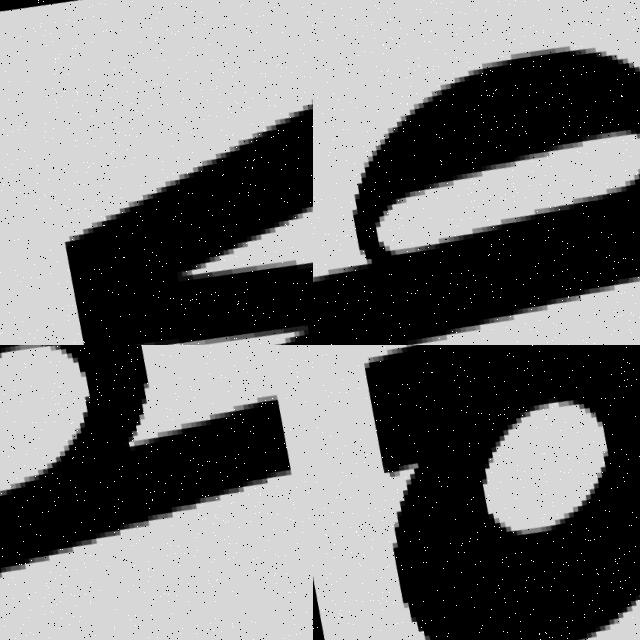D: (313, 345, 640, 640)
H: (0, 345, 313, 640)
P: (313, 40, 640, 345)
W: (7, 0, 313, 345)
